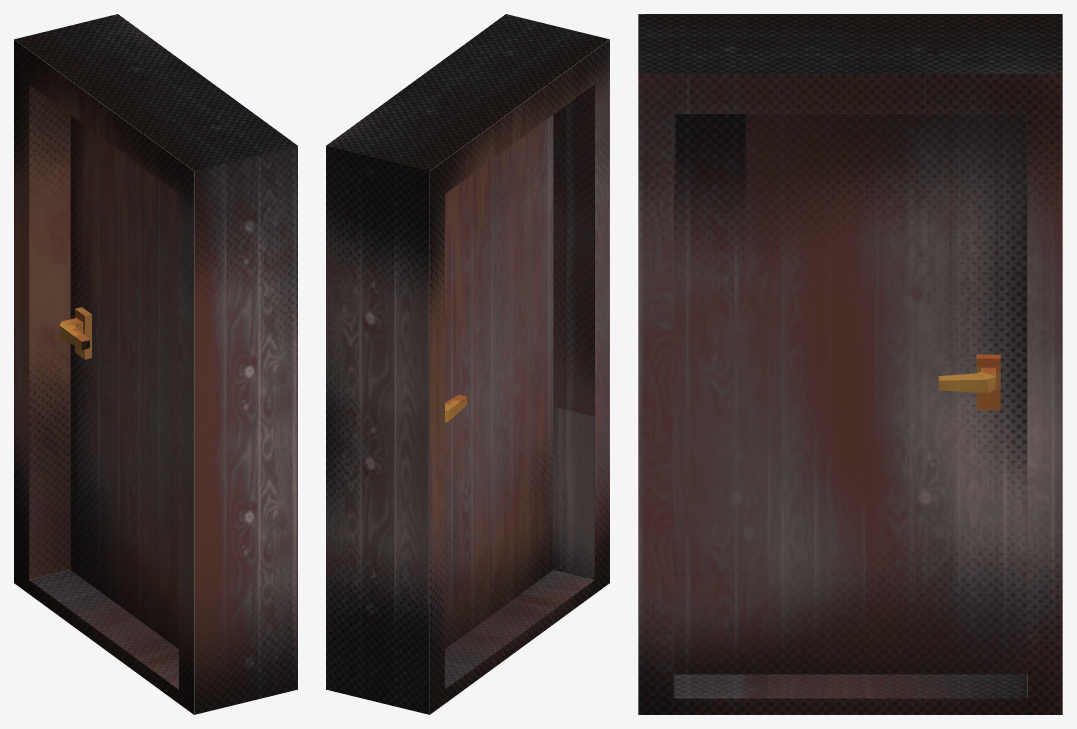
Rendered from Door.obj.
3 views of the same model, side by side, from view 1: azimuth 30°, elevation 25°; view 2: azimuth 150°, elevation 25°; view 3: azimuth 270°, elevation 25° (orthographic). The views are drawn at different scales.
Visible parts, largest first — view 1: Door_Frame; view 2: Door_Frame; view 3: Door_Frame.
Part boxes in pixels (x1=…): Door_Frame: x1=14, y1=14, x2=297, y2=714; Door_Frame: x1=326, y1=14, x2=609, y2=714; Door_Frame: x1=638, y1=14, x2=1062, y2=714.
Bounding box in the file's own units: 0.5 × 2.5 × 1.5.
